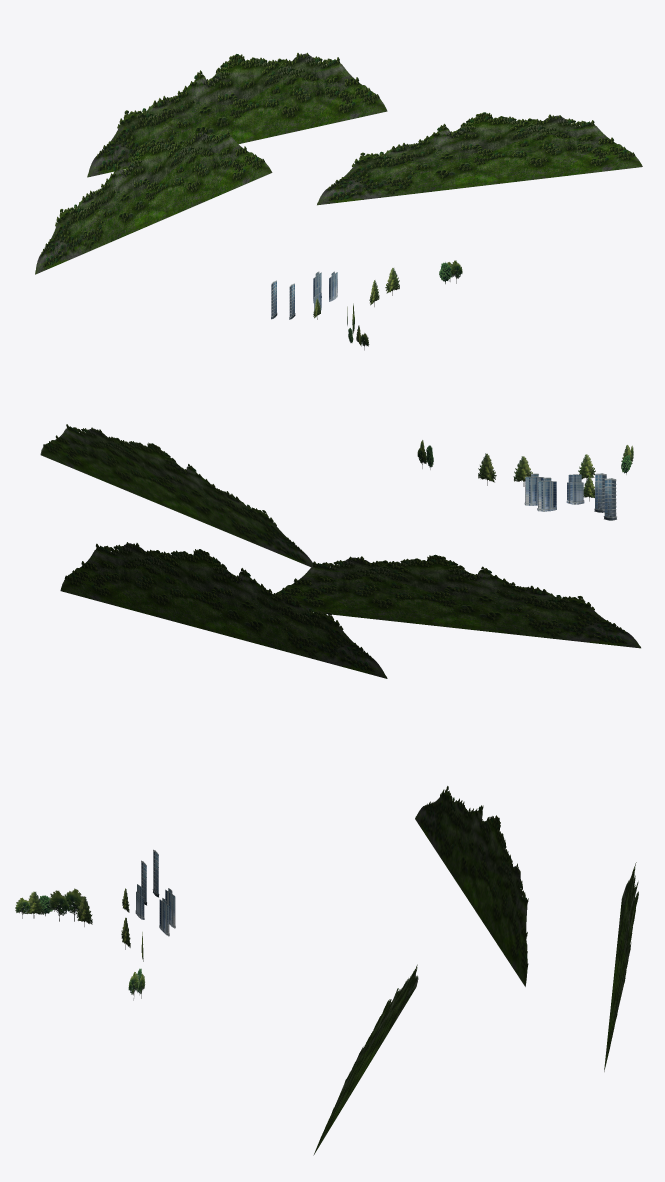
3 views of the same model, one above another, from view 1: azimuth 30°, elevation 25°; view 2: azimuth 150°, elevation 25°; view 3: azimuth 270°, elevation 25° (orthographic). The views are drawn at different scales.
Bounding box in the file's own units: 707 × 110 × 541.
